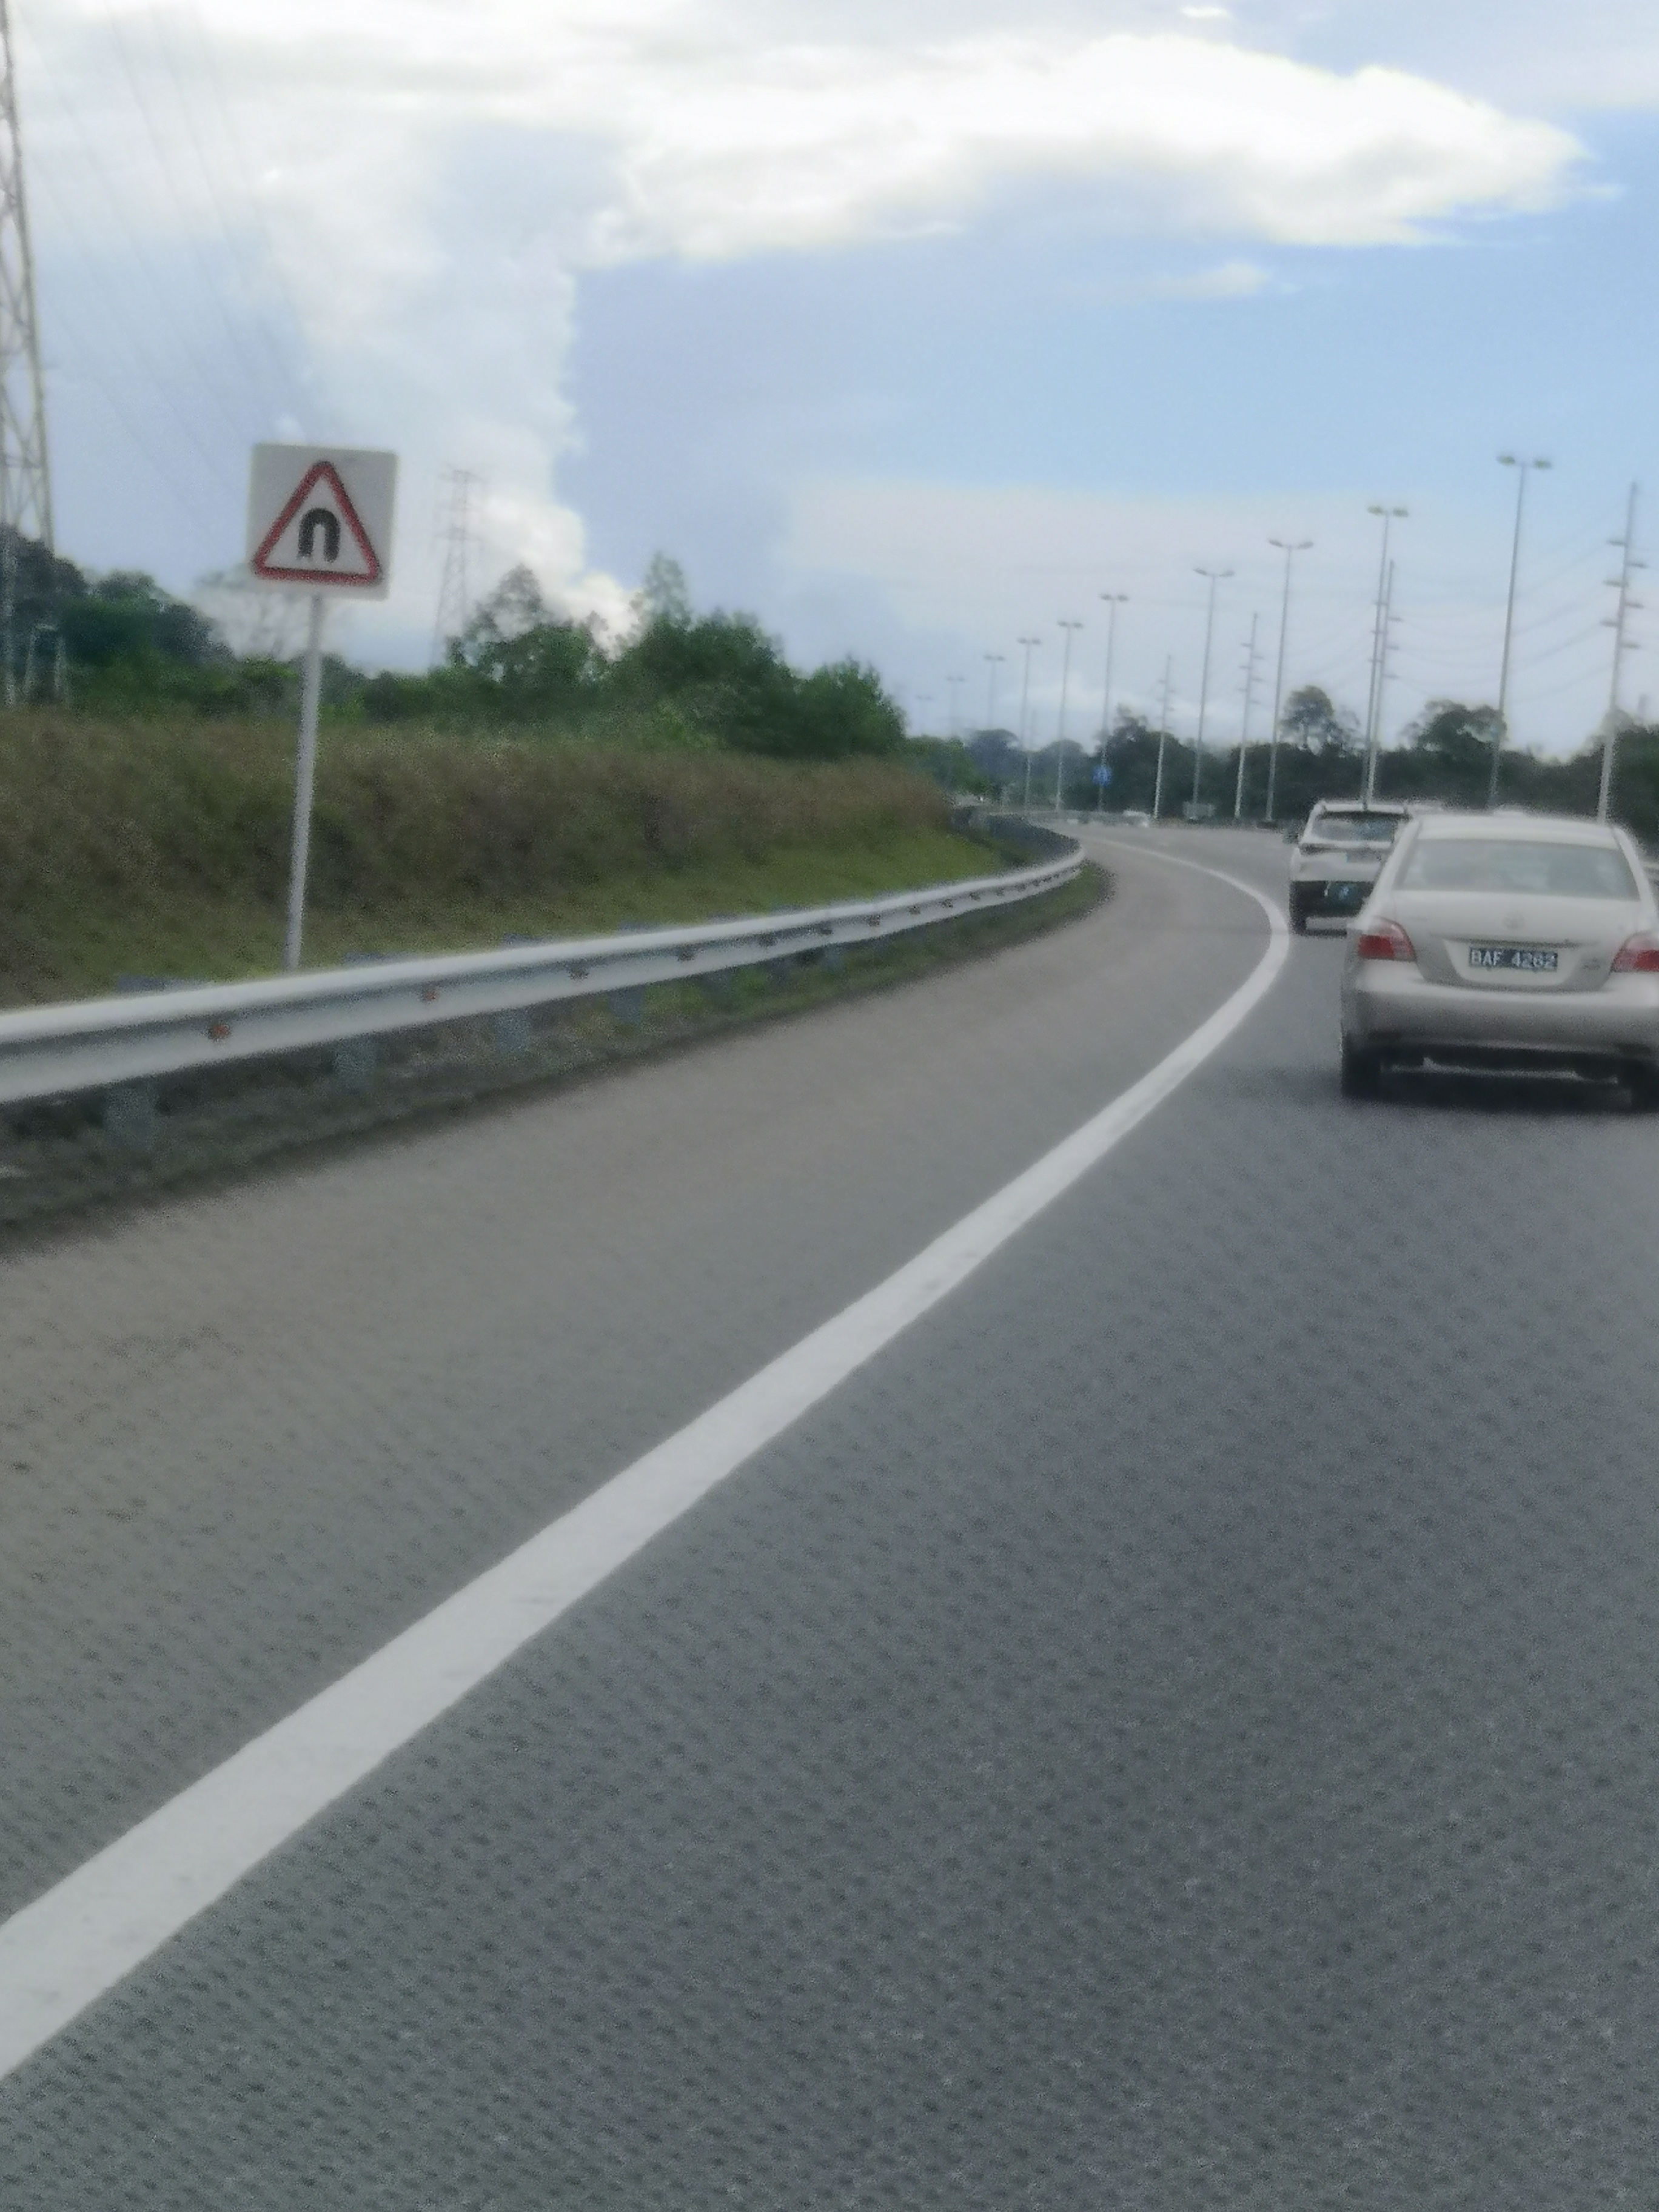U-turn: (251, 439, 401, 597)
